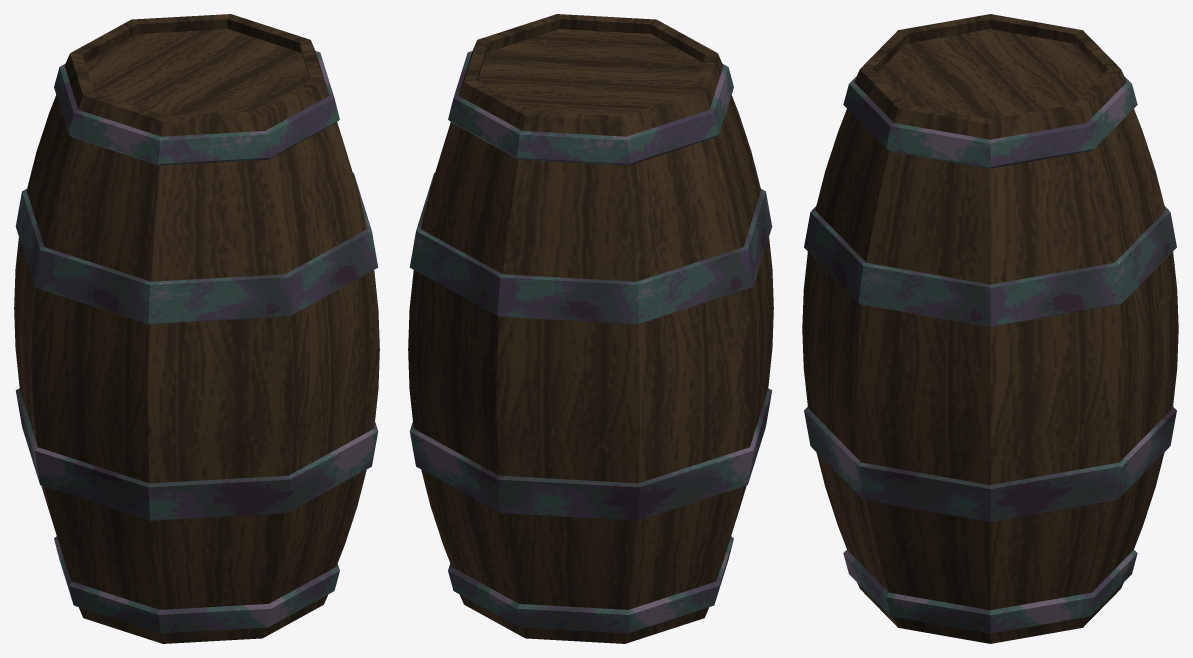
Rendered from Fass V1.fbx.
3 views of the same model, side by side, from view 1: azimuth 30°, elevation 25°; view 2: azimuth 150°, elevation 25°; view 3: azimuth 270°, elevation 25° (orthographic).
Parts seen in each view (by area): view 1: Fass V1; view 2: Fass V1; view 3: Fass V1.
Part boxes in pixels (x1,y1,x2,y2): Fass V1: (14,14,379,643); Fass V1: (408,14,773,643); Fass V1: (802,14,1178,643).
Size of the model in its own units: 65.67 by 65.67 by 100.
Materials: 1 (1 with a texture image).
